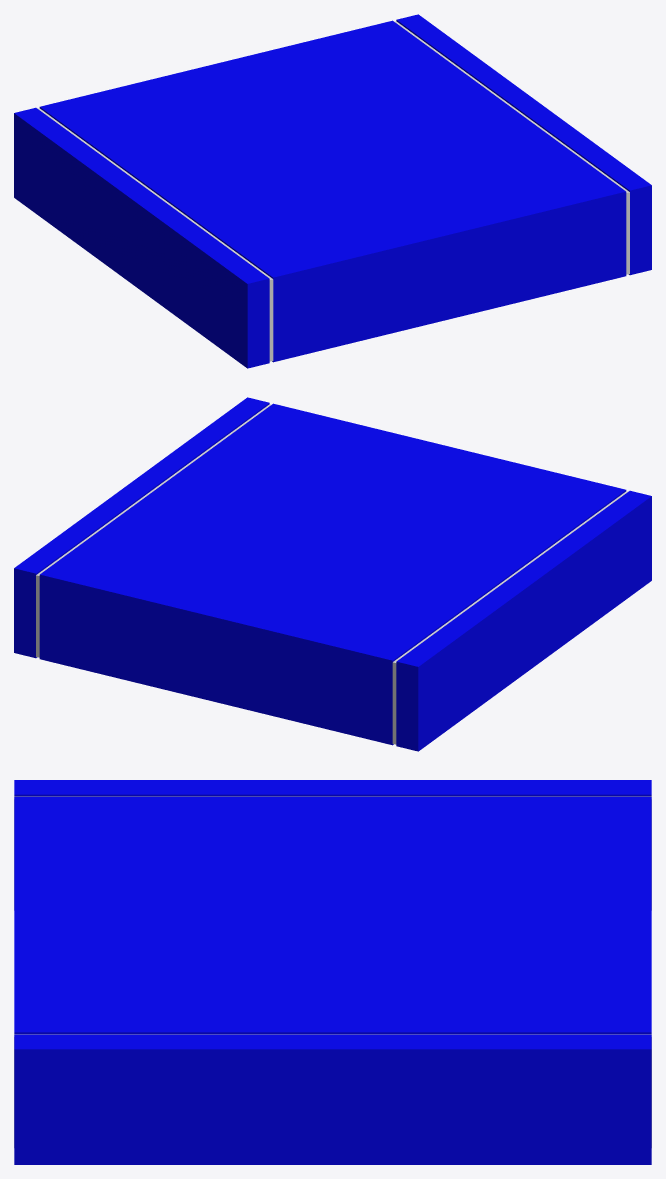
Rendered from FloorV2_1x1Merged.fbx.
3 renders of one model, top to bottom at view 1: azimuth 30°, elevation 25°; view 2: azimuth 150°, elevation 25°; view 3: azimuth 270°, elevation 25°, orthographic. The views are drawn at different scales.
Parts seen in each view (by area): view 1: FloorV2_1x3_mainBody; view 2: FloorV2_1x3_mainBody; view 3: FloorV2_1x3_mainBody.
Part boxes in pixels (x1=…): FloorV2_1x3_mainBody: x1=14, y1=14, x2=651, y2=368; FloorV2_1x3_mainBody: x1=14, y1=397, x2=651, y2=751; FloorV2_1x3_mainBody: x1=14, y1=780, x2=651, y2=1164.
Size of the model in its own units: 500 by 100 by 500.
